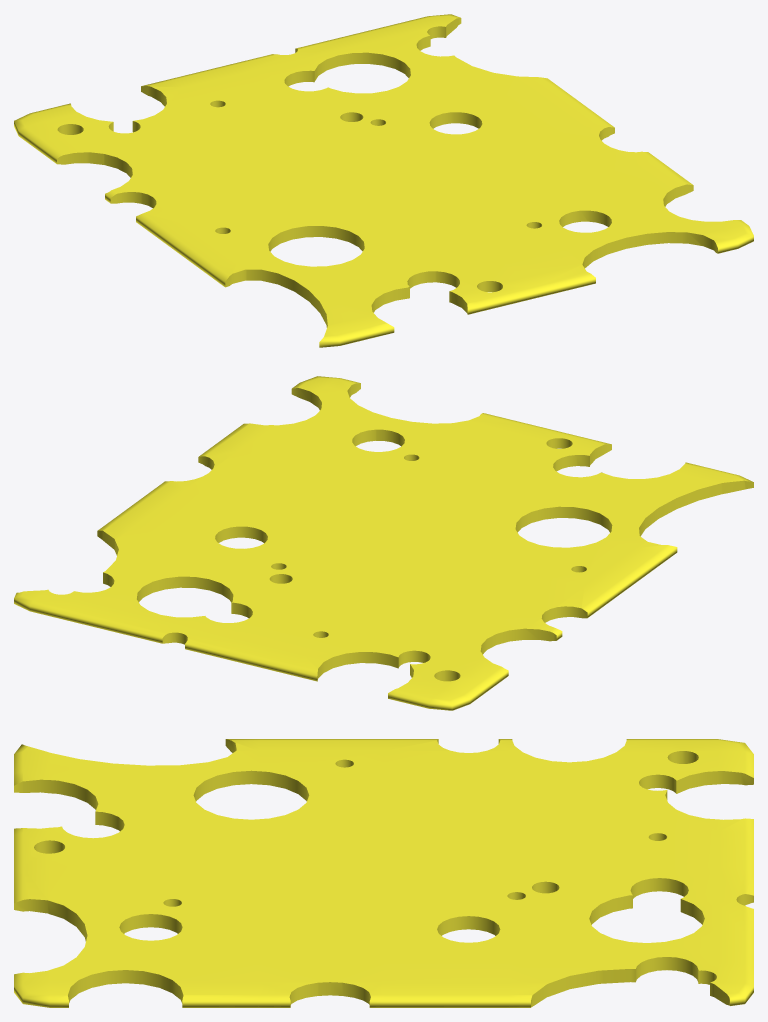
The model's file is cheese.fbx.
The picture shows the model from 3 angles, top to bottom: view 1: azimuth 30°, elevation 25°; view 2: azimuth 150°, elevation 25°; view 3: azimuth 270°, elevation 25°; orthographic projection. The views are drawn at different scales.
Parts seen in each view (by area): view 1: yellow_cheese; view 2: yellow_cheese; view 3: yellow_cheese.
Part boxes in pixels (bbox=[...]): yellow_cheese: bbox=[14, 14, 753, 347]; yellow_cheese: bbox=[14, 376, 753, 710]; yellow_cheese: bbox=[14, 739, 753, 1007].
Size of the model in its own units: 798 by 18.87 by 952.
